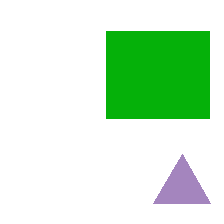rectangle: (106, 31, 209, 118)
triangle: (153, 154, 210, 203)
